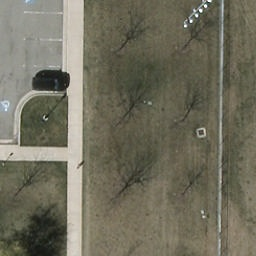car: (30, 75, 68, 92)
